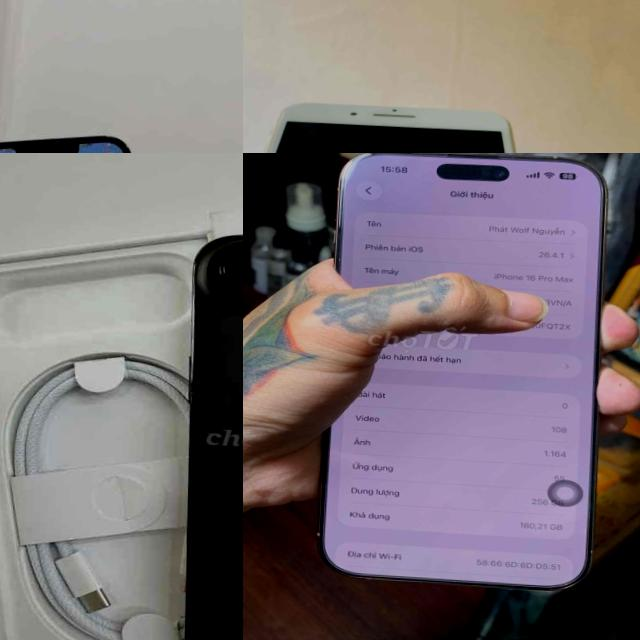gen_16: (319, 153, 606, 593)
gen_17: (144, 216, 243, 640)
